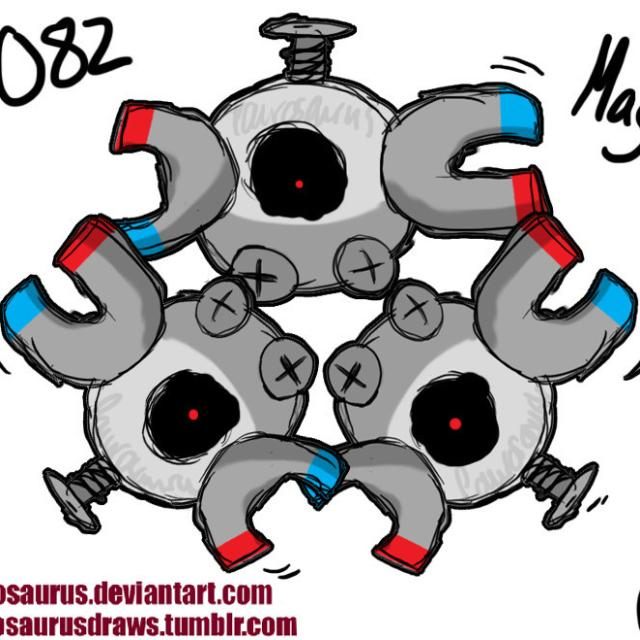Magneton: (46, 64, 605, 532)
